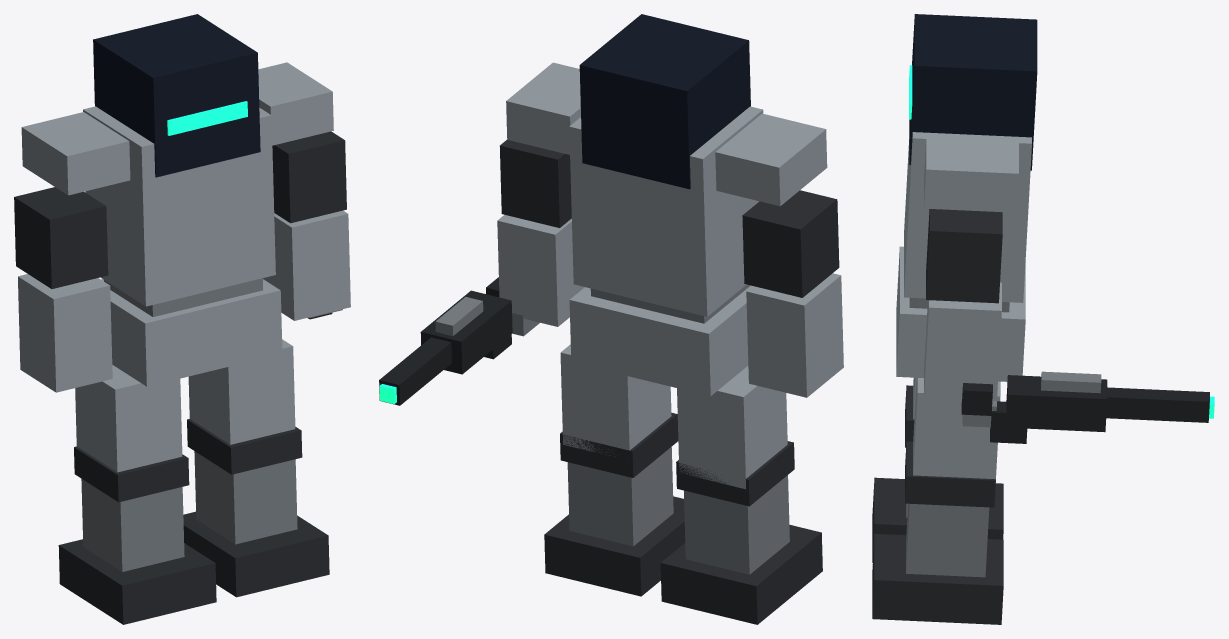
File: shooterbot.glb
3 views of the same model, side by side, from view 1: azimuth 30°, elevation 25°; view 2: azimuth 150°, elevation 25°; view 3: azimuth 270°, elevation 25° (orthographic). The views are drawn at different scales.
Size of the model in its own units: 2.26 by 3.55 by 2.06.
